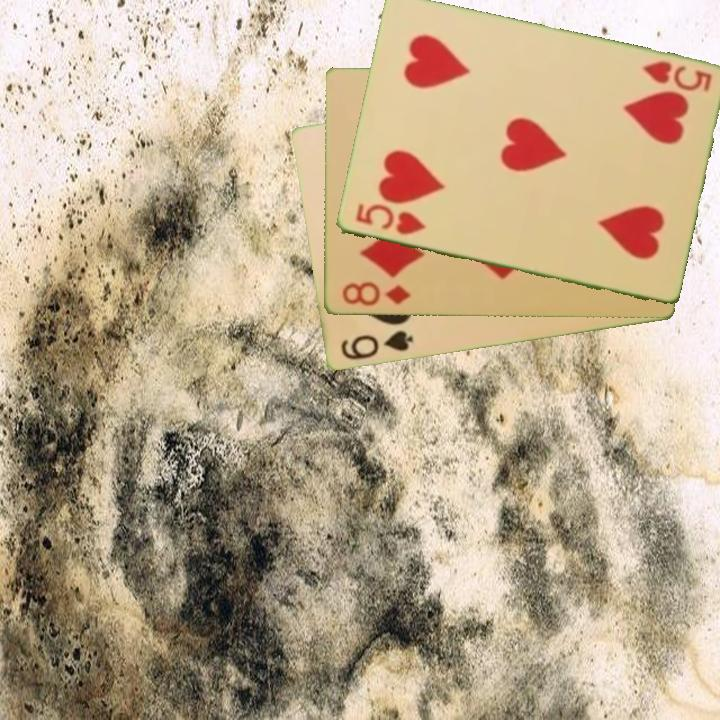5h: (352, 200, 428, 238), (638, 57, 714, 95)
6s: (336, 327, 416, 364)
8d: (338, 278, 413, 309)
